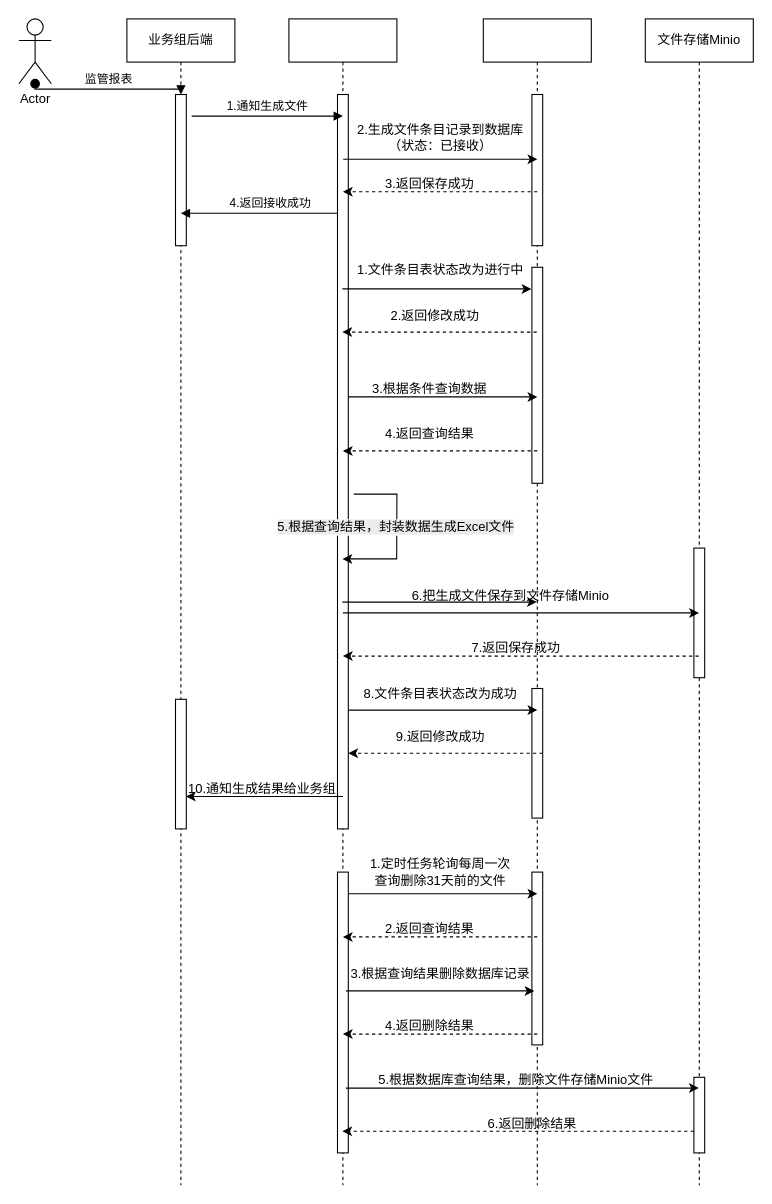
This 772x1204 diagram has some shape labels left out. The shapes that lost their labels are listed below. From the top down, each one's box as (x1, y1, x2, y2) in pixels, then its label:
(288, 18, 397, 1185): 技术组后端
(482, 18, 591, 1185): 数据层
